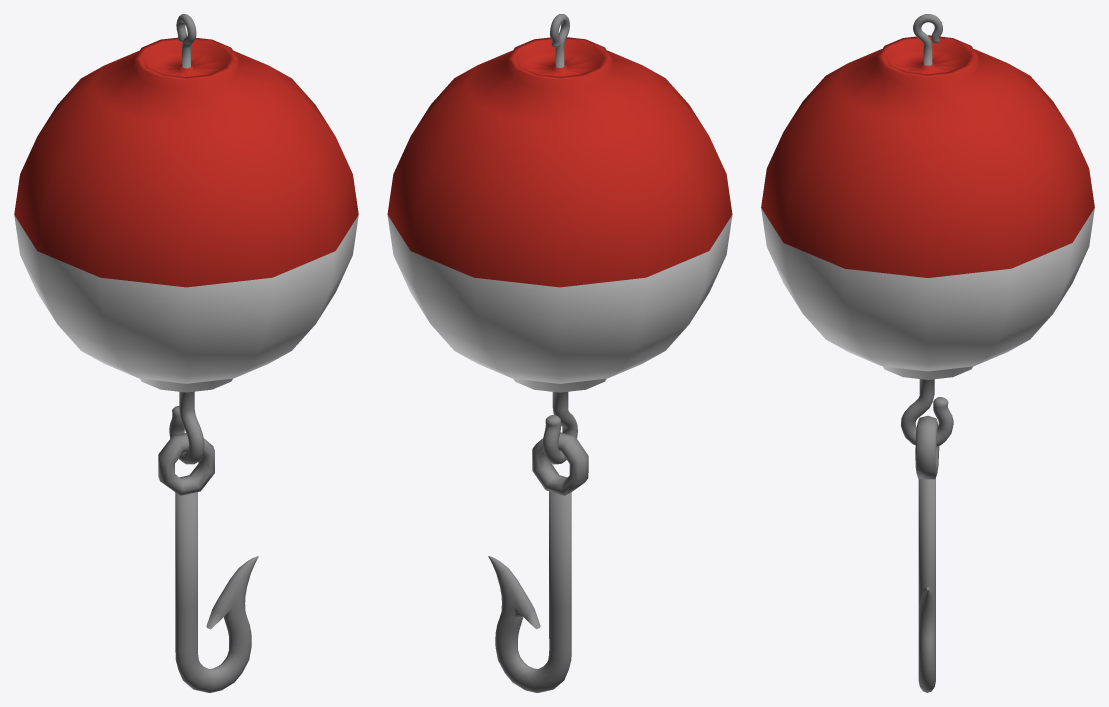
Rendered from Bobber_hook.fbx.
3 views of the same model, side by side, from view 1: azimuth 30°, elevation 25°; view 2: azimuth 150°, elevation 25°; view 3: azimuth 270°, elevation 25° (orthographic). The views are drawn at different scales.
Visible parts, largest first — view 1: Bobber_hook; view 2: Bobber_hook; view 3: Bobber_hook.
Part boxes in pixels (x1,y1,x2,y2): Bobber_hook: (14,14,358,692); Bobber_hook: (387,14,732,692); Bobber_hook: (761,14,1094,692).
Size of the model in its own units: 6 by 13.12 by 6.
